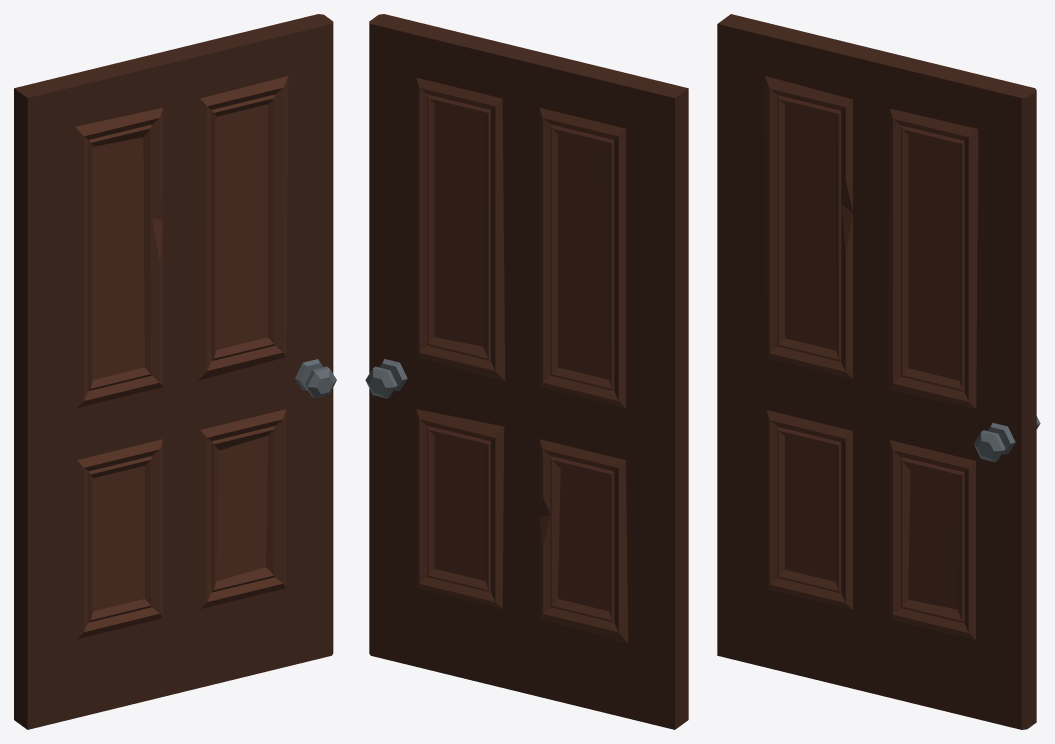
The model's file is SM_Bld_Door_06.fbx.
3 views of the same model, side by side, from view 1: azimuth 30°, elevation 25°; view 2: azimuth 150°, elevation 25°; view 3: azimuth 330°, elevation 25° (orthographic).
Visible parts, largest first — view 1: SM_Bld_Door_06; view 2: SM_Bld_Door_06; view 3: SM_Bld_Door_06.
Part boxes in pixels (bbox=[...]): SM_Bld_Door_06: bbox=[14, 14, 336, 729]; SM_Bld_Door_06: bbox=[365, 14, 688, 729]; SM_Bld_Door_06: bbox=[717, 14, 1040, 729].
Bounding box in the file's own units: 100 × 197 × 24.4.
